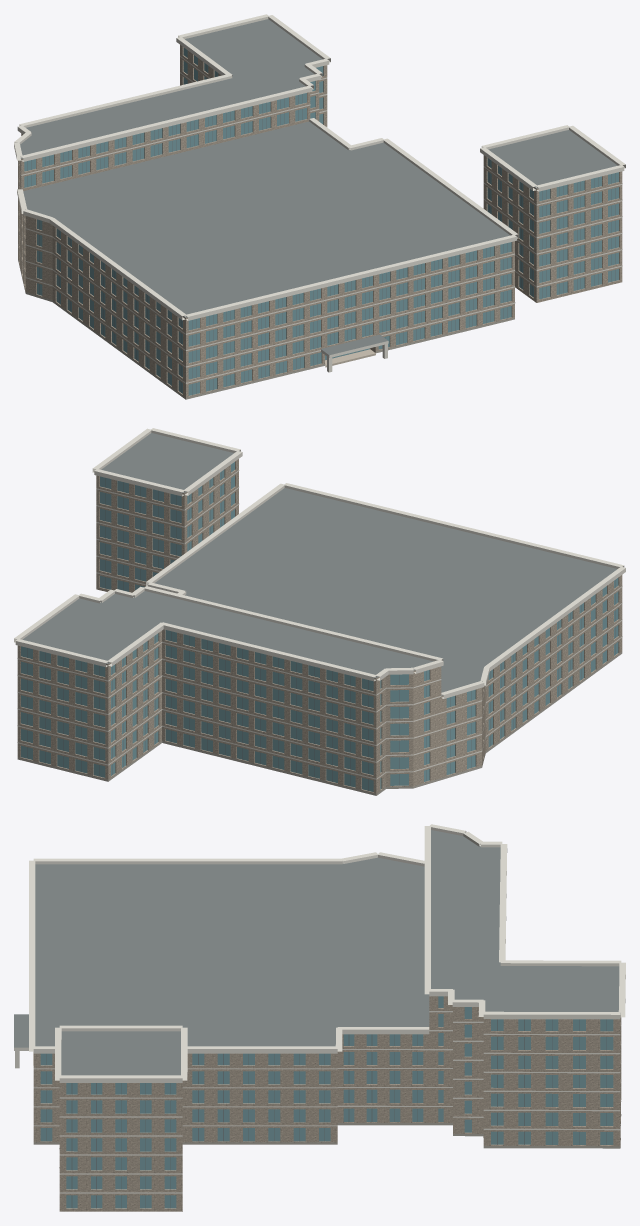
3 renders of one model, top to bottom at view 1: azimuth 30°, elevation 25°; view 2: azimuth 150°, elevation 25°; view 3: azimuth 270°, elevation 25°, orthographic. The views are drawn at different scales.
Parts seen in each view (by area): view 1: electronics__roof, electronics__wall, electronics__glass, electronics__trim, electronics__frame, electronics__base; view 2: electronics__roof, electronics__wall, electronics__glass, electronics__trim, electronics__frame, electronics__base; view 3: electronics__roof, electronics__wall, electronics__glass, electronics__trim, electronics__frame, electronics__base.
Boxes of the visible parts, left/top/right/bottom form: electronics__roof: left=20, top=19, right=617, bottom=355; electronics__wall: left=18, top=45, right=622, bottom=399; electronics__glass: left=24, top=47, right=618, bottom=395; electronics__trim: left=14, top=14, right=625, bottom=383; electronics__frame: left=27, top=64, right=615, bottom=394; electronics__base: left=18, top=259, right=514, bottom=399; electronics__roof: left=22, top=433, right=617, bottom=695; electronics__wall: left=17, top=459, right=622, bottom=795; electronics__glass: left=21, top=462, right=618, bottom=791; electronics__trim: left=14, top=428, right=625, bottom=779; electronics__frame: left=27, top=471, right=615, bottom=790; electronics__base: left=17, top=652, right=622, bottom=795; electronics__roof: left=14, top=830, right=619, bottom=1148; electronics__wall: left=33, top=996, right=621, bottom=1211; electronics__glass: left=40, top=996, right=613, bottom=1208; electronics__trim: left=14, top=824, right=625, bottom=1193; electronics__frame: left=46, top=1019, right=606, bottom=1208; electronics__base: left=33, top=1114, right=621, bottom=1148.
Size of the model in its own units: 110 by 26.85 by 108.
9 materials, 1 textured.
